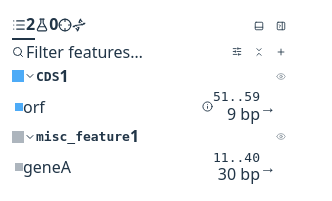
Test: FeatureSidebar editing and keyboard › filters by terms
Type "type:cds len<20" into the field labelled "Filter features" at (125, 52), box x1=24 y1=40 x2=226 y2=64
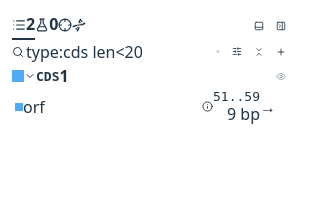
Expected: the option with id "fs-opt-f2" is shown, x1=12 y1=89 x2=292 y2=124
Expected: the option with id "fs-opt-f1" is gone
